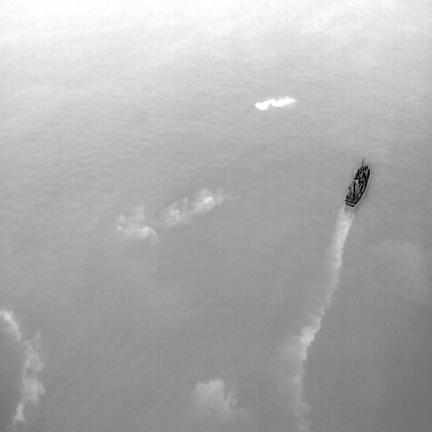flukeprints: (161, 189, 223, 225), (117, 206, 157, 237), (255, 96, 296, 110)
